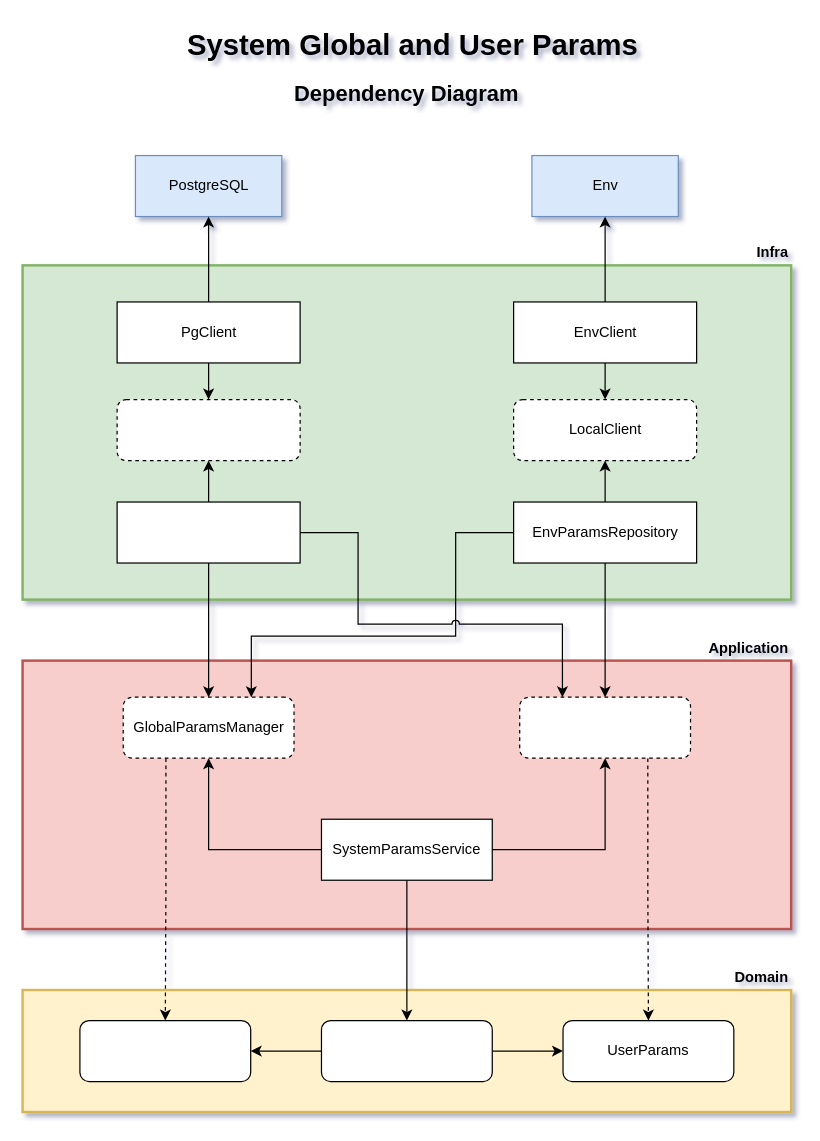
This 820x1141 diagram has some shape labels left out. Each missing label, with the centre of its shape:
DatabaseClient: [208,429]
DbParamsRepository: [208,532]
GlobalParams: [165,1050]
SystemParams: [406,1050]
UserParamsManager: [604,727]
